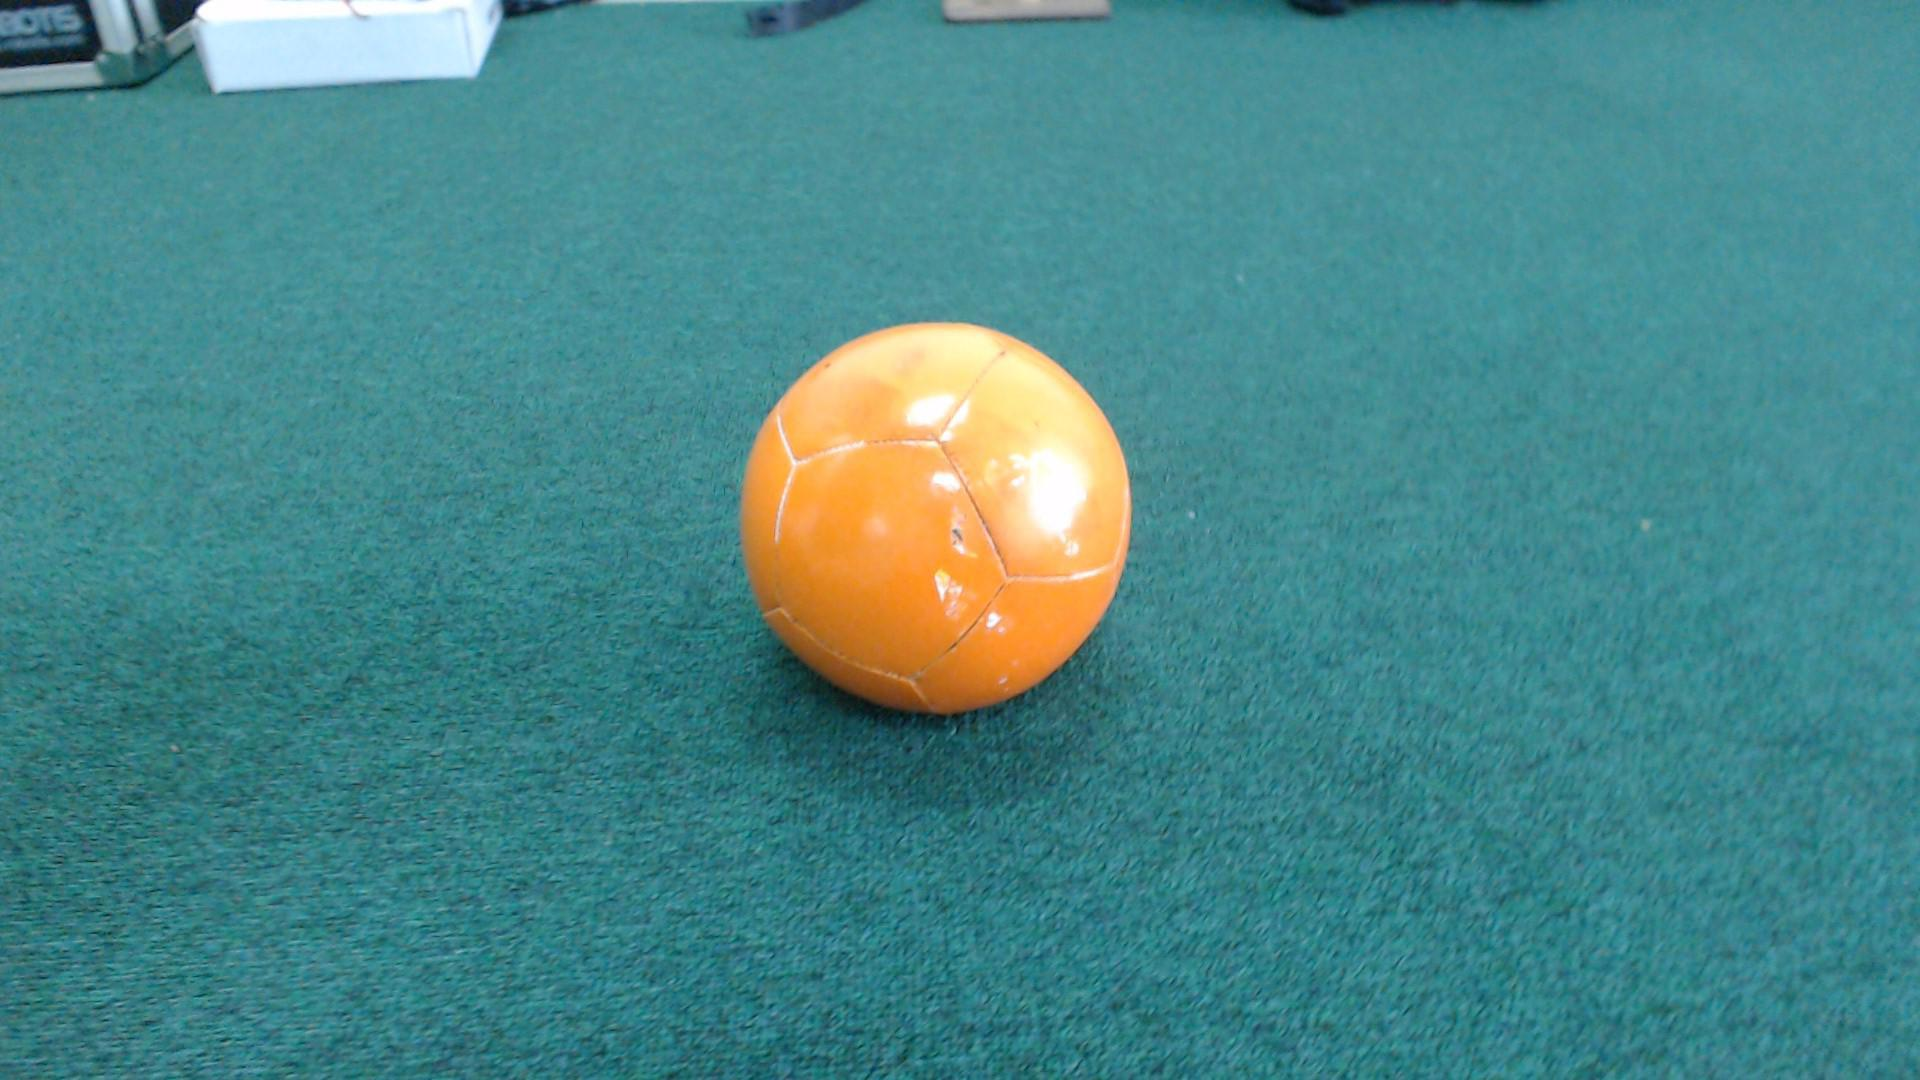bola: (695, 282, 1151, 727)
